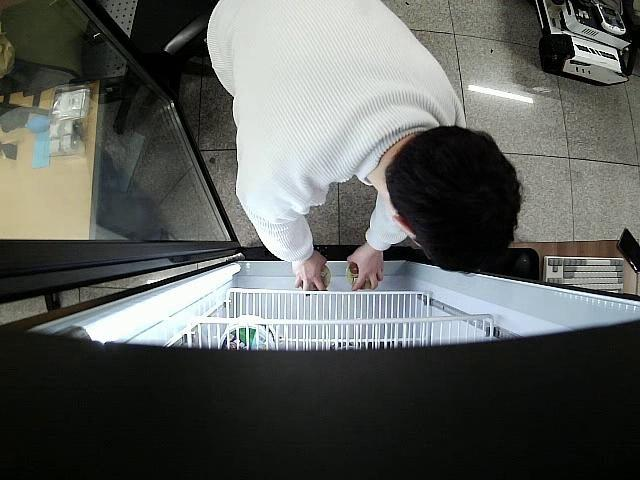04_chapagetti_S: (298, 264, 333, 291), (348, 260, 373, 288)
